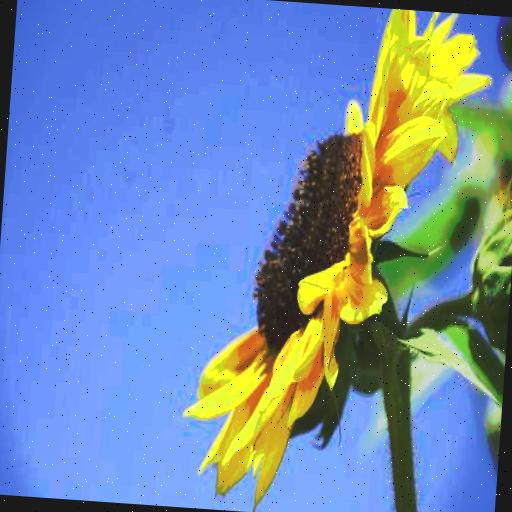sunflower: (182, 0, 487, 512)
